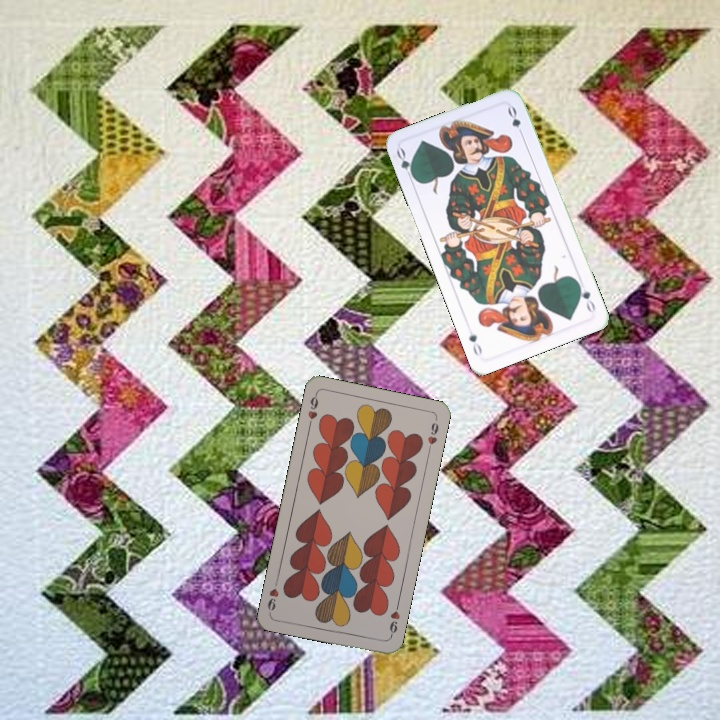GO: (392, 144, 418, 184), (573, 278, 598, 315)
H9: (304, 390, 321, 430), (386, 600, 402, 640)
